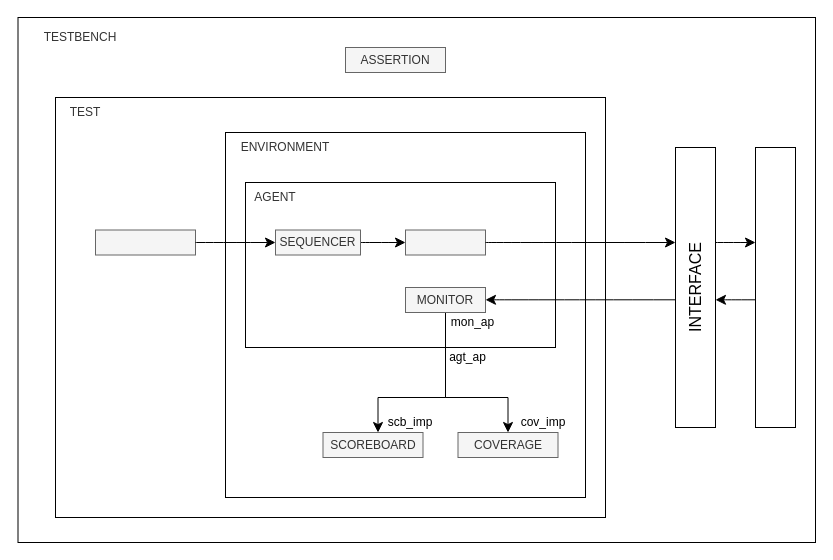
Image size: 833x560. Some labels were removed from this diagram. Each missing label, with the centre of its shape:
DRIVER: pixel 445 242
DUT: pixel 775 287
SEQUENCE: pixel 145 242
